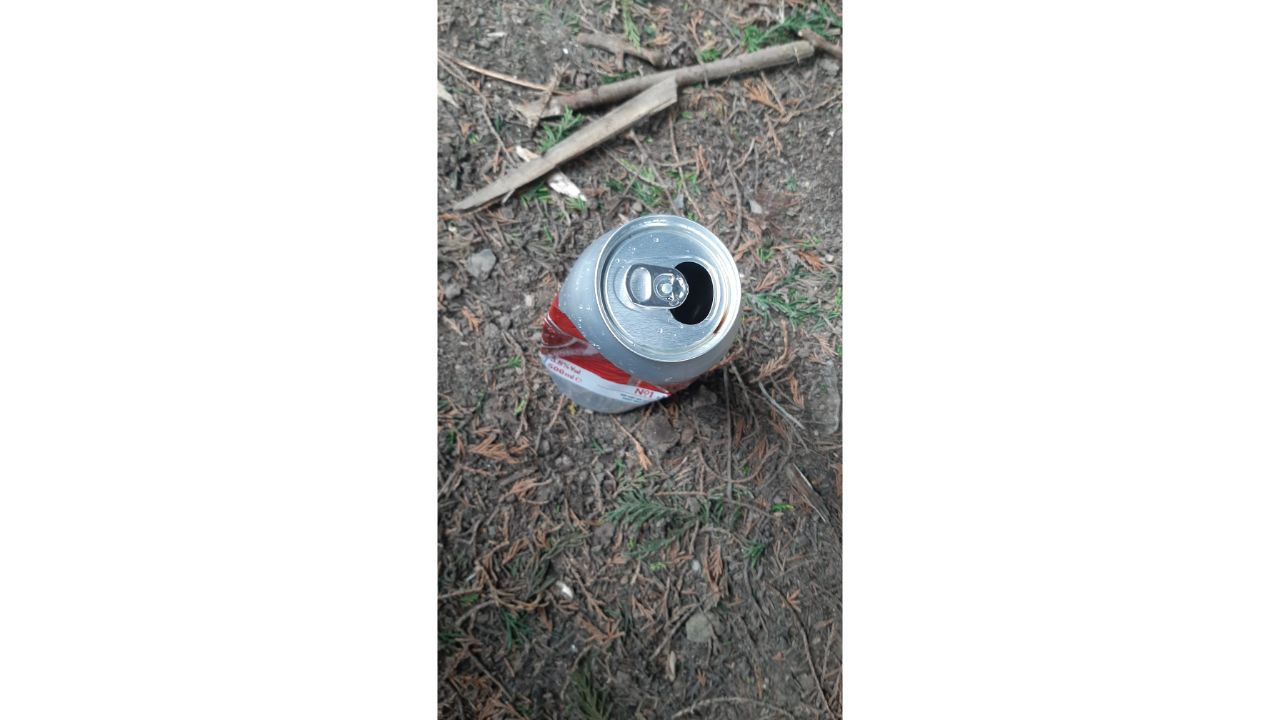Can: (530, 210, 747, 417)
